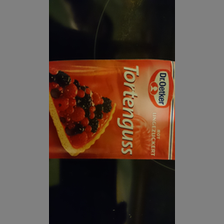cake: (50, 59, 178, 162)
